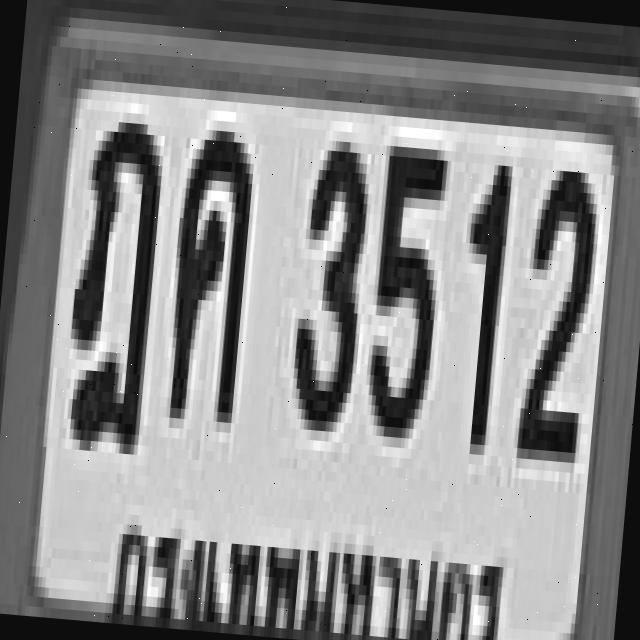1: (448, 148, 511, 440)
13KhorKhwai: (162, 118, 254, 412)
2: (514, 154, 596, 448)
23DorChaDa: (58, 109, 163, 444)
3: (286, 124, 369, 418)
5: (362, 130, 446, 424)
Bangkok: (103, 482, 517, 640)
